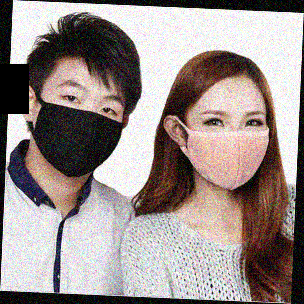with_mask: (33, 77, 122, 180), (185, 107, 270, 192)
